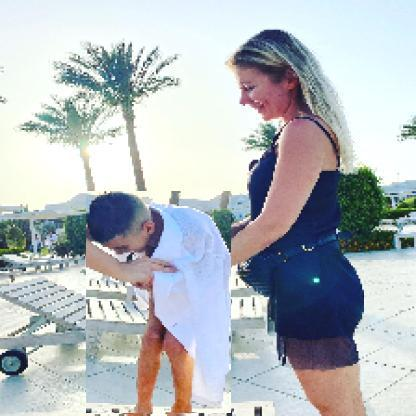child: (87, 192, 233, 415)
